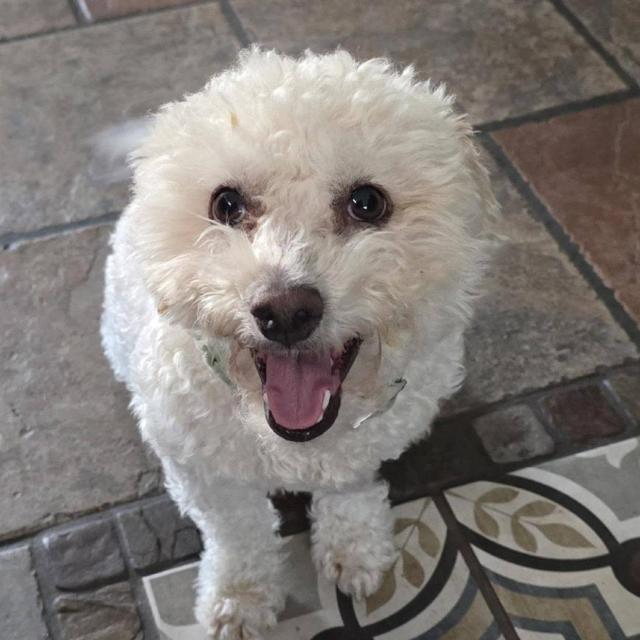Poodle_dog: (99, 25, 504, 459)
